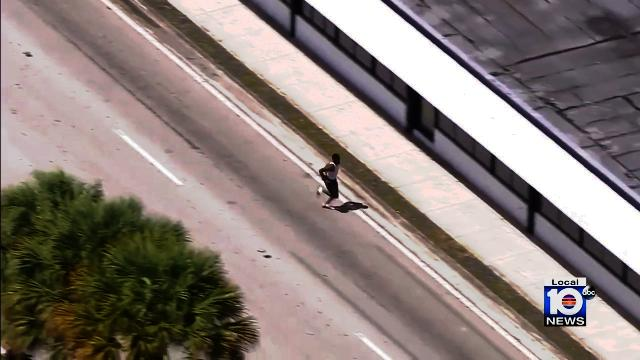berlari: (312, 148, 346, 216)
